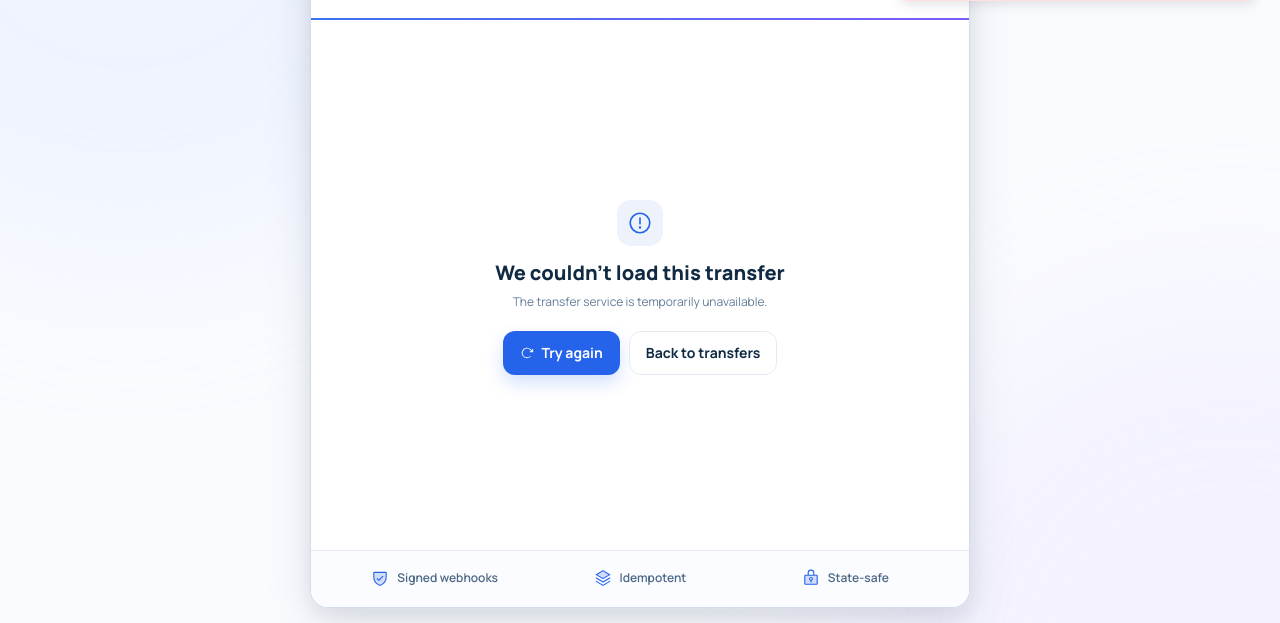
Scenario: TransferDetailScreen › retries an initial API error
Step 1. Click the button "Try again" → (561, 352), box [503, 330, 620, 374]
(page scrolled)
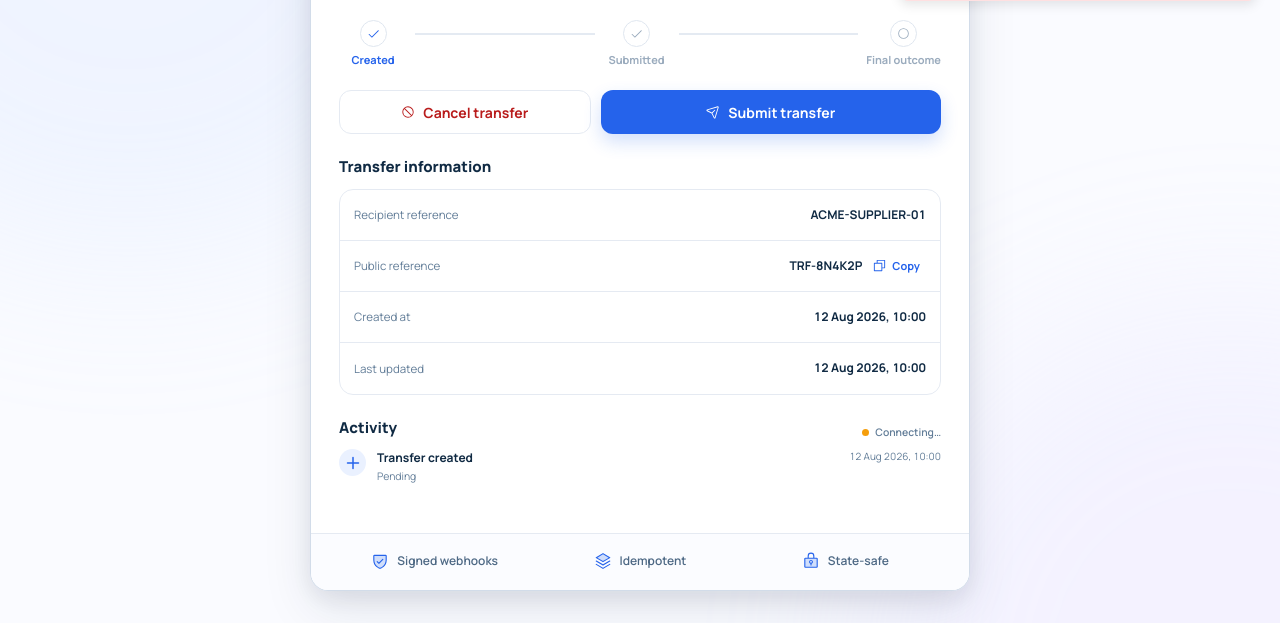
Expected: the text "Transfer created" is shown, [377, 449, 473, 466]
